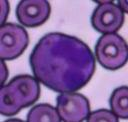E: (30, 32, 94, 93)
